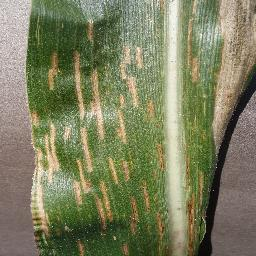Gray_Leaf_Spot: (45, 46, 159, 119), (211, 0, 256, 169), (142, 153, 171, 256), (185, 144, 210, 256), (27, 109, 43, 256), (184, 0, 203, 85), (41, 119, 60, 181), (96, 192, 114, 235), (71, 180, 98, 206), (78, 121, 89, 179), (110, 154, 131, 184), (129, 193, 139, 237), (115, 119, 131, 145), (83, 17, 98, 43), (44, 209, 53, 247), (94, 119, 108, 142), (62, 122, 74, 146), (76, 235, 87, 256), (119, 240, 132, 256), (87, 154, 96, 175), (151, 0, 166, 11), (101, 171, 108, 193), (154, 139, 164, 154)
